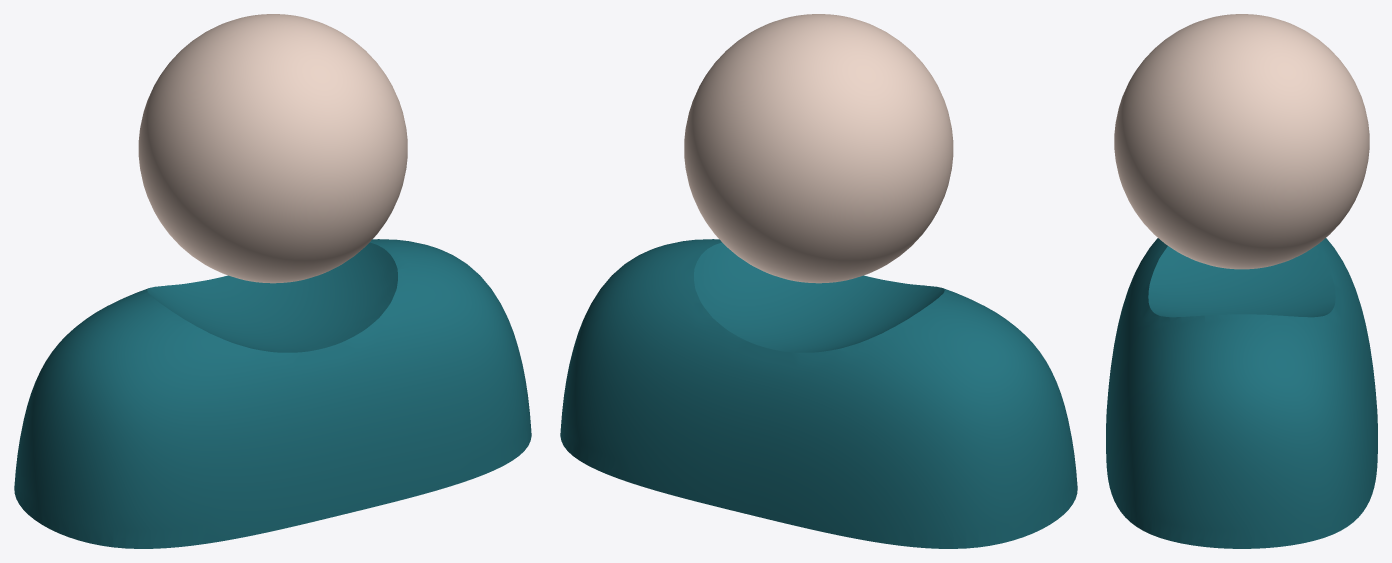
Rendered from InteractiveTreePersonMale.dae.
The picture shows the model from 3 angles, left to right: view 1: azimuth 30°, elevation 25°; view 2: azimuth 150°, elevation 25°; view 3: azimuth 270°, elevation 25°; orthographic projection. The views are drawn at different scales.
Parts seen in each view (by area): view 1: model; view 2: model; view 3: model.
Boxes of the visible parts, box(x1,y1,x2,y2) form: model: box(14, 14, 531, 548); model: box(560, 14, 1077, 548); model: box(1106, 14, 1377, 548).
Bounding box in the file's own units: 2.28 × 1.99 × 1.19.
